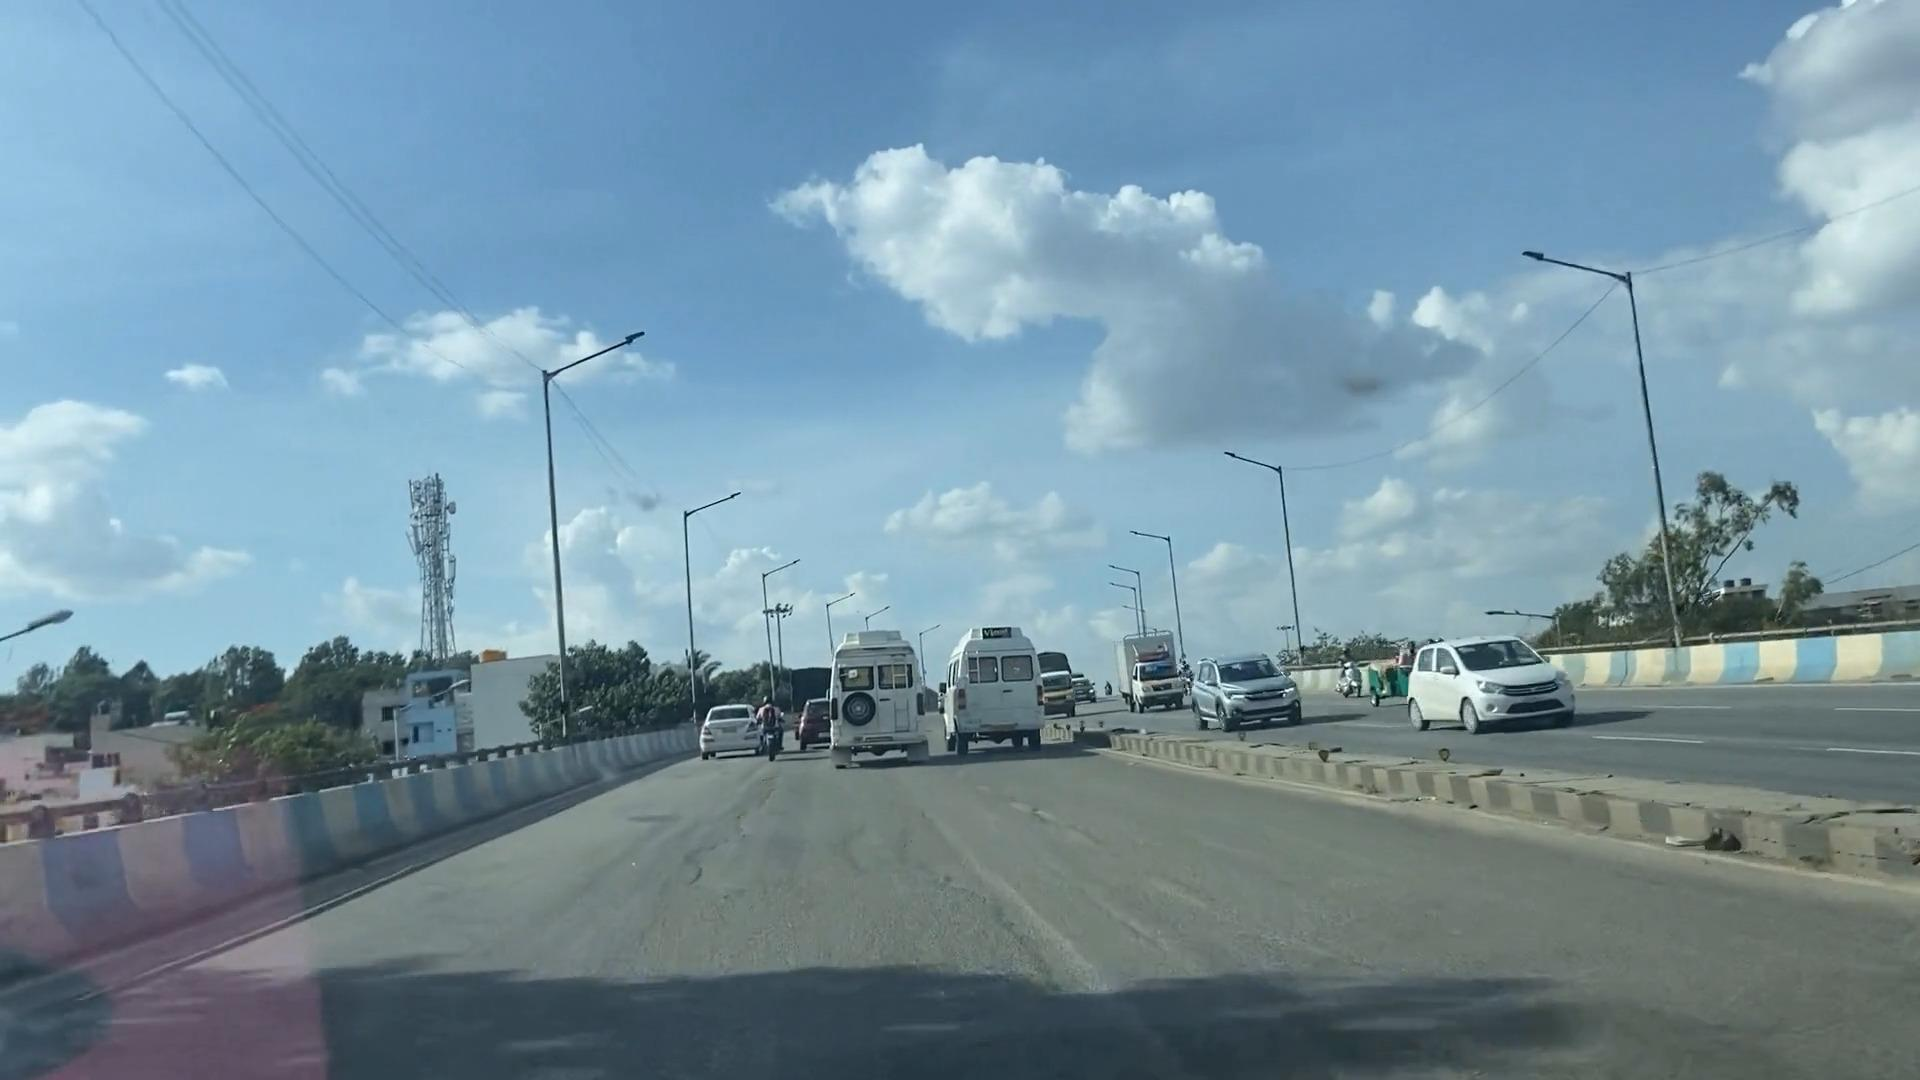HMV: (827, 626, 947, 771), (959, 611, 1044, 746)
RoadDamages: (692, 807, 1311, 1047)
